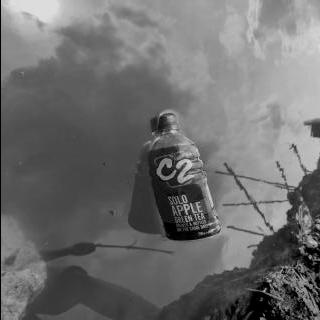bottle: (143, 108, 224, 246)
